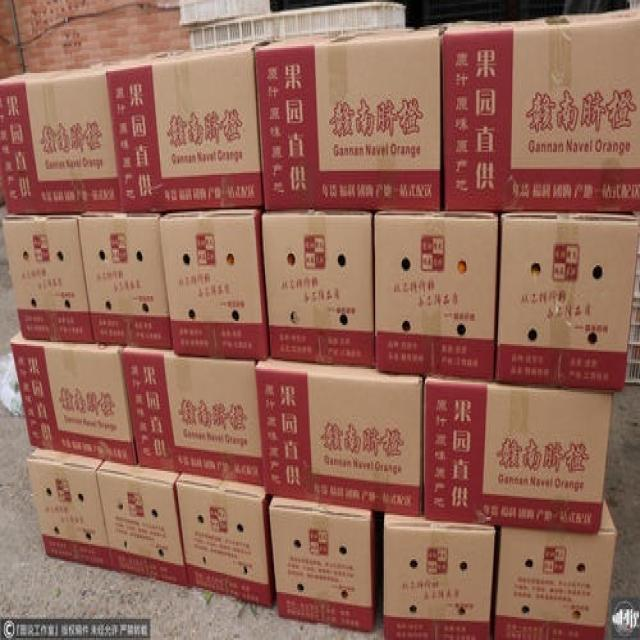box: (441, 8, 639, 210), (252, 24, 450, 212), (425, 376, 614, 537), (107, 39, 276, 211), (256, 362, 425, 517), (492, 215, 639, 392), (373, 213, 497, 383), (121, 346, 263, 488), (0, 60, 130, 213), (263, 214, 375, 368), (492, 501, 617, 638), (12, 331, 137, 466), (159, 209, 266, 361), (267, 496, 377, 632), (382, 515, 494, 637), (174, 477, 277, 604), (80, 213, 173, 348), (2, 215, 93, 342), (97, 462, 188, 589), (24, 450, 112, 573)
